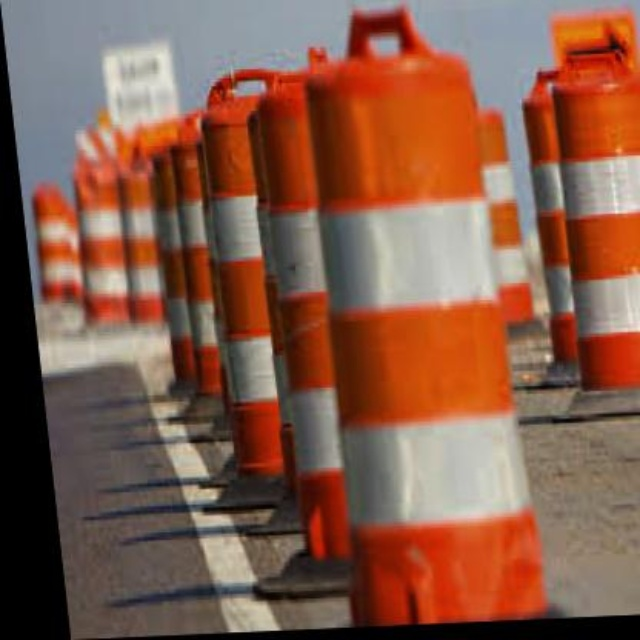obstacle: (280, 14, 531, 630), (535, 50, 640, 415)
